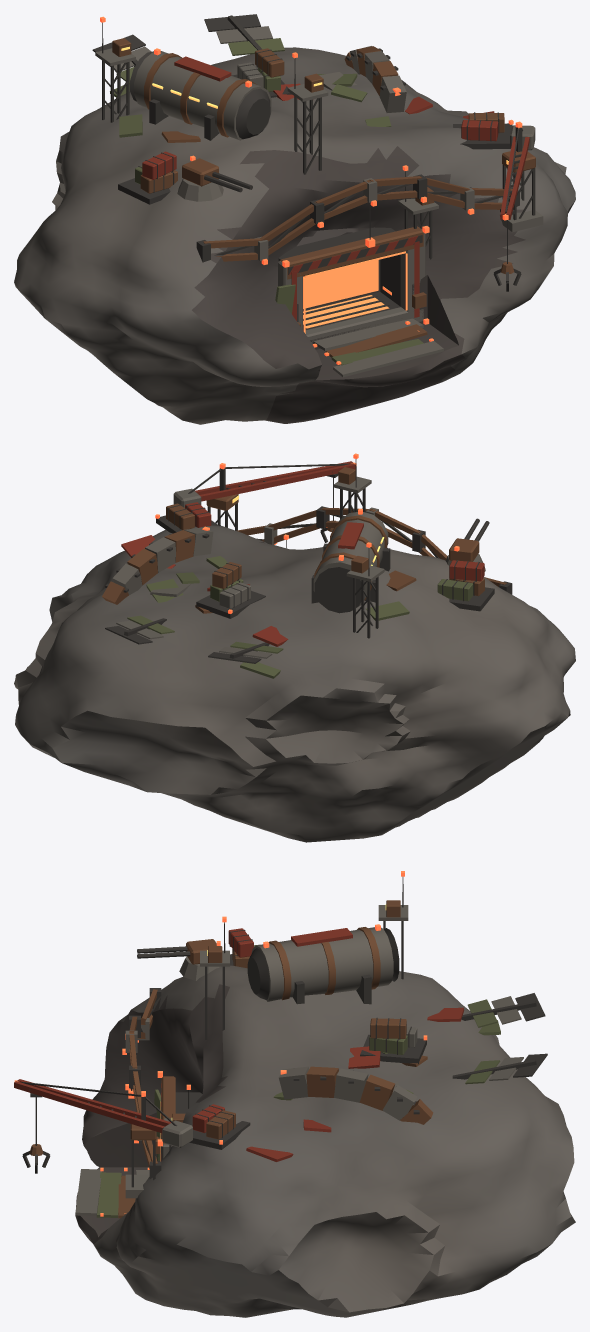
The model's file is scavenger_den.glb.
3 views of the same model, one above another, from view 1: azimuth 30°, elevation 25°; view 2: azimuth 150°, elevation 25°; view 3: azimuth 270°, elevation 25° (orthographic). The views are drawn at different scales.
Visible parts, largest first — view 1: den_rock, den_salvage, den_hangar_glow, den_lights; view 2: den_rock, den_salvage; view 3: den_rock, den_salvage, den_lights.
Part boxes in pixels (<box>): den_rock: <box>14,47,575,424</box>; den_salvage: <box>92,14,543,377</box>; den_hangar_glow: <box>303,251,407,333</box>; den_lights: <box>100,16,522,364</box>; den_rock: <box>14,525,575,842</box>; den_salvage: <box>102,459,512,678</box>; den_rock: <box>75,965,575,1317</box>; den_salvage: <box>14,877,547,1218</box>; den_lights: <box>14,871,427,1216</box>.
Bounding box in the file's own units: 104 × 65.35 × 94.46.
